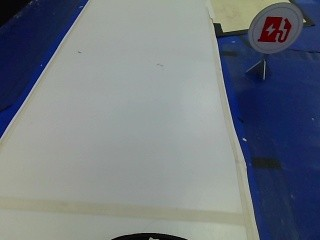battery: (250, 6, 300, 52)
